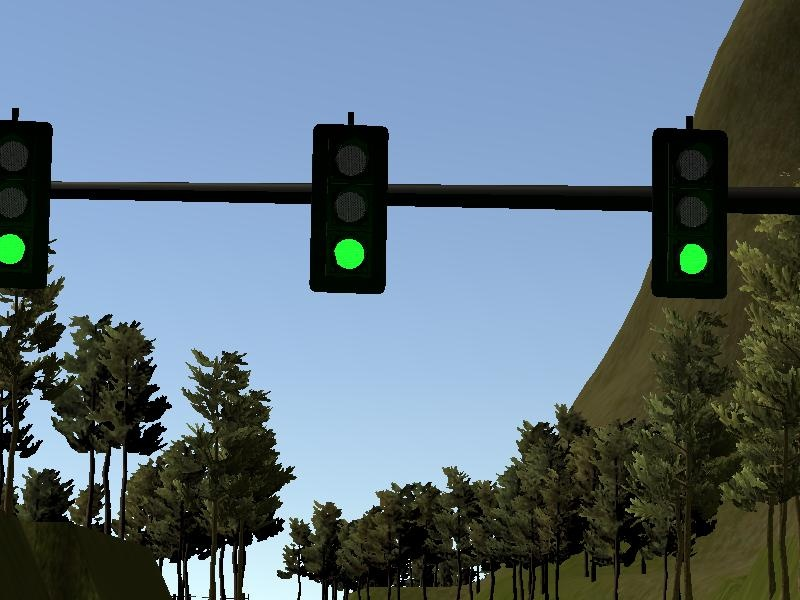green: (647, 108, 737, 301), (312, 118, 387, 292), (1, 124, 62, 299)
